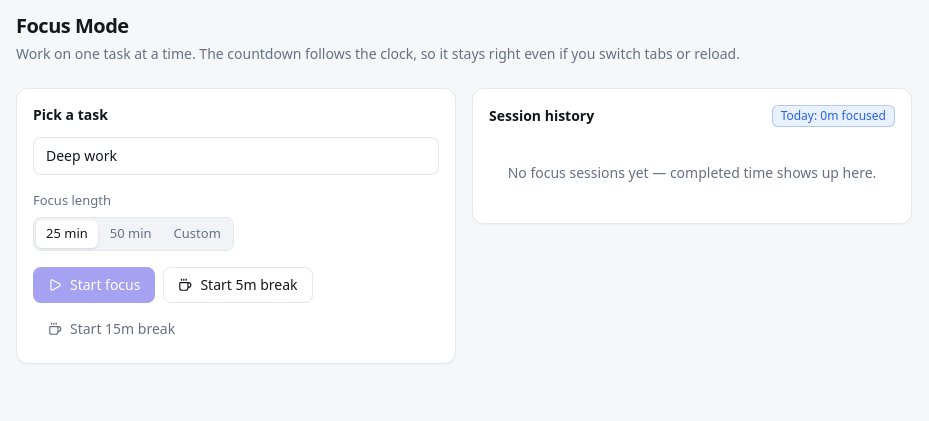
FocusView › starts a25-minute session for the selected task (countdown, store timer)
The width and height of the screenshot is (929, 421).
Click the button with aria-label "Focus on Deep work" at [82, 156], box left=33, top=137, right=439, bottom=175
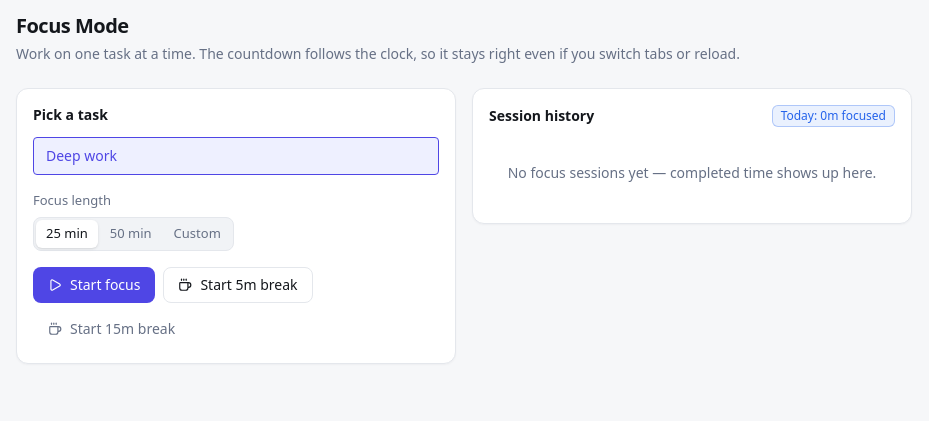
Click the tab "25 min" at [67, 234], box left=36, top=220, right=98, bottom=248
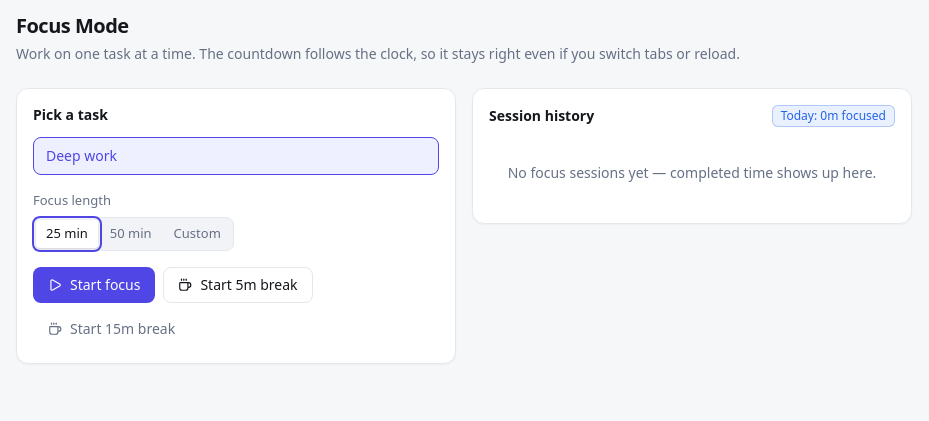
Click the button "Start focus" at [94, 284], box left=33, top=266, right=155, bottom=302
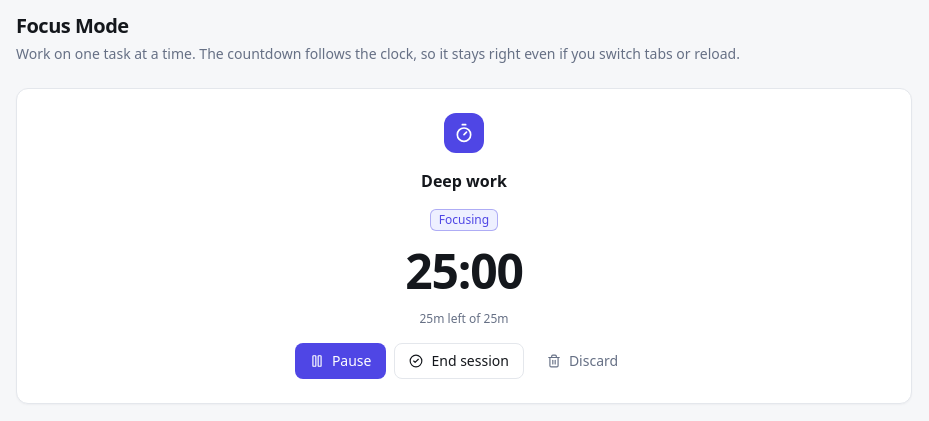
Now the text "25:00" is shown, box left=405, top=247, right=523, bottom=295
Now the button "Pause" is shown, box left=295, top=343, right=386, bottom=379
Now the button "End session" is shown, box left=394, top=343, right=524, bottom=379
